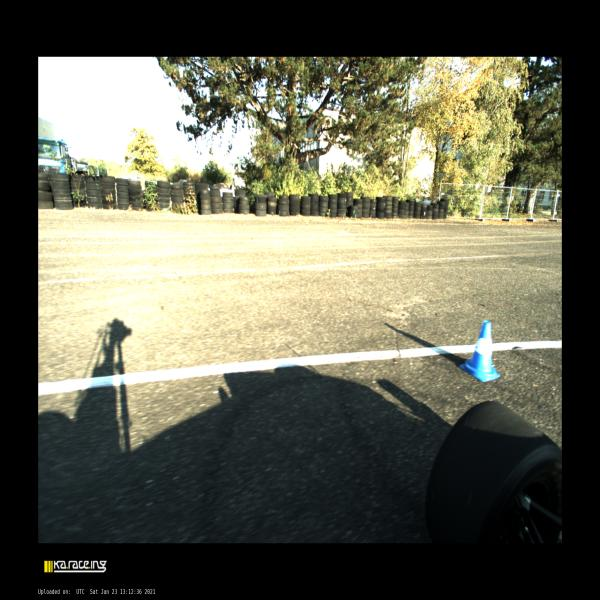blue_cone: (460, 321, 501, 382)
